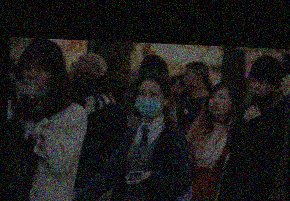mask_weared_incorrect: (19, 59, 51, 97), (248, 76, 272, 107)
with_mask: (133, 87, 163, 118)
without_mask: (206, 90, 230, 118), (182, 69, 196, 89)
